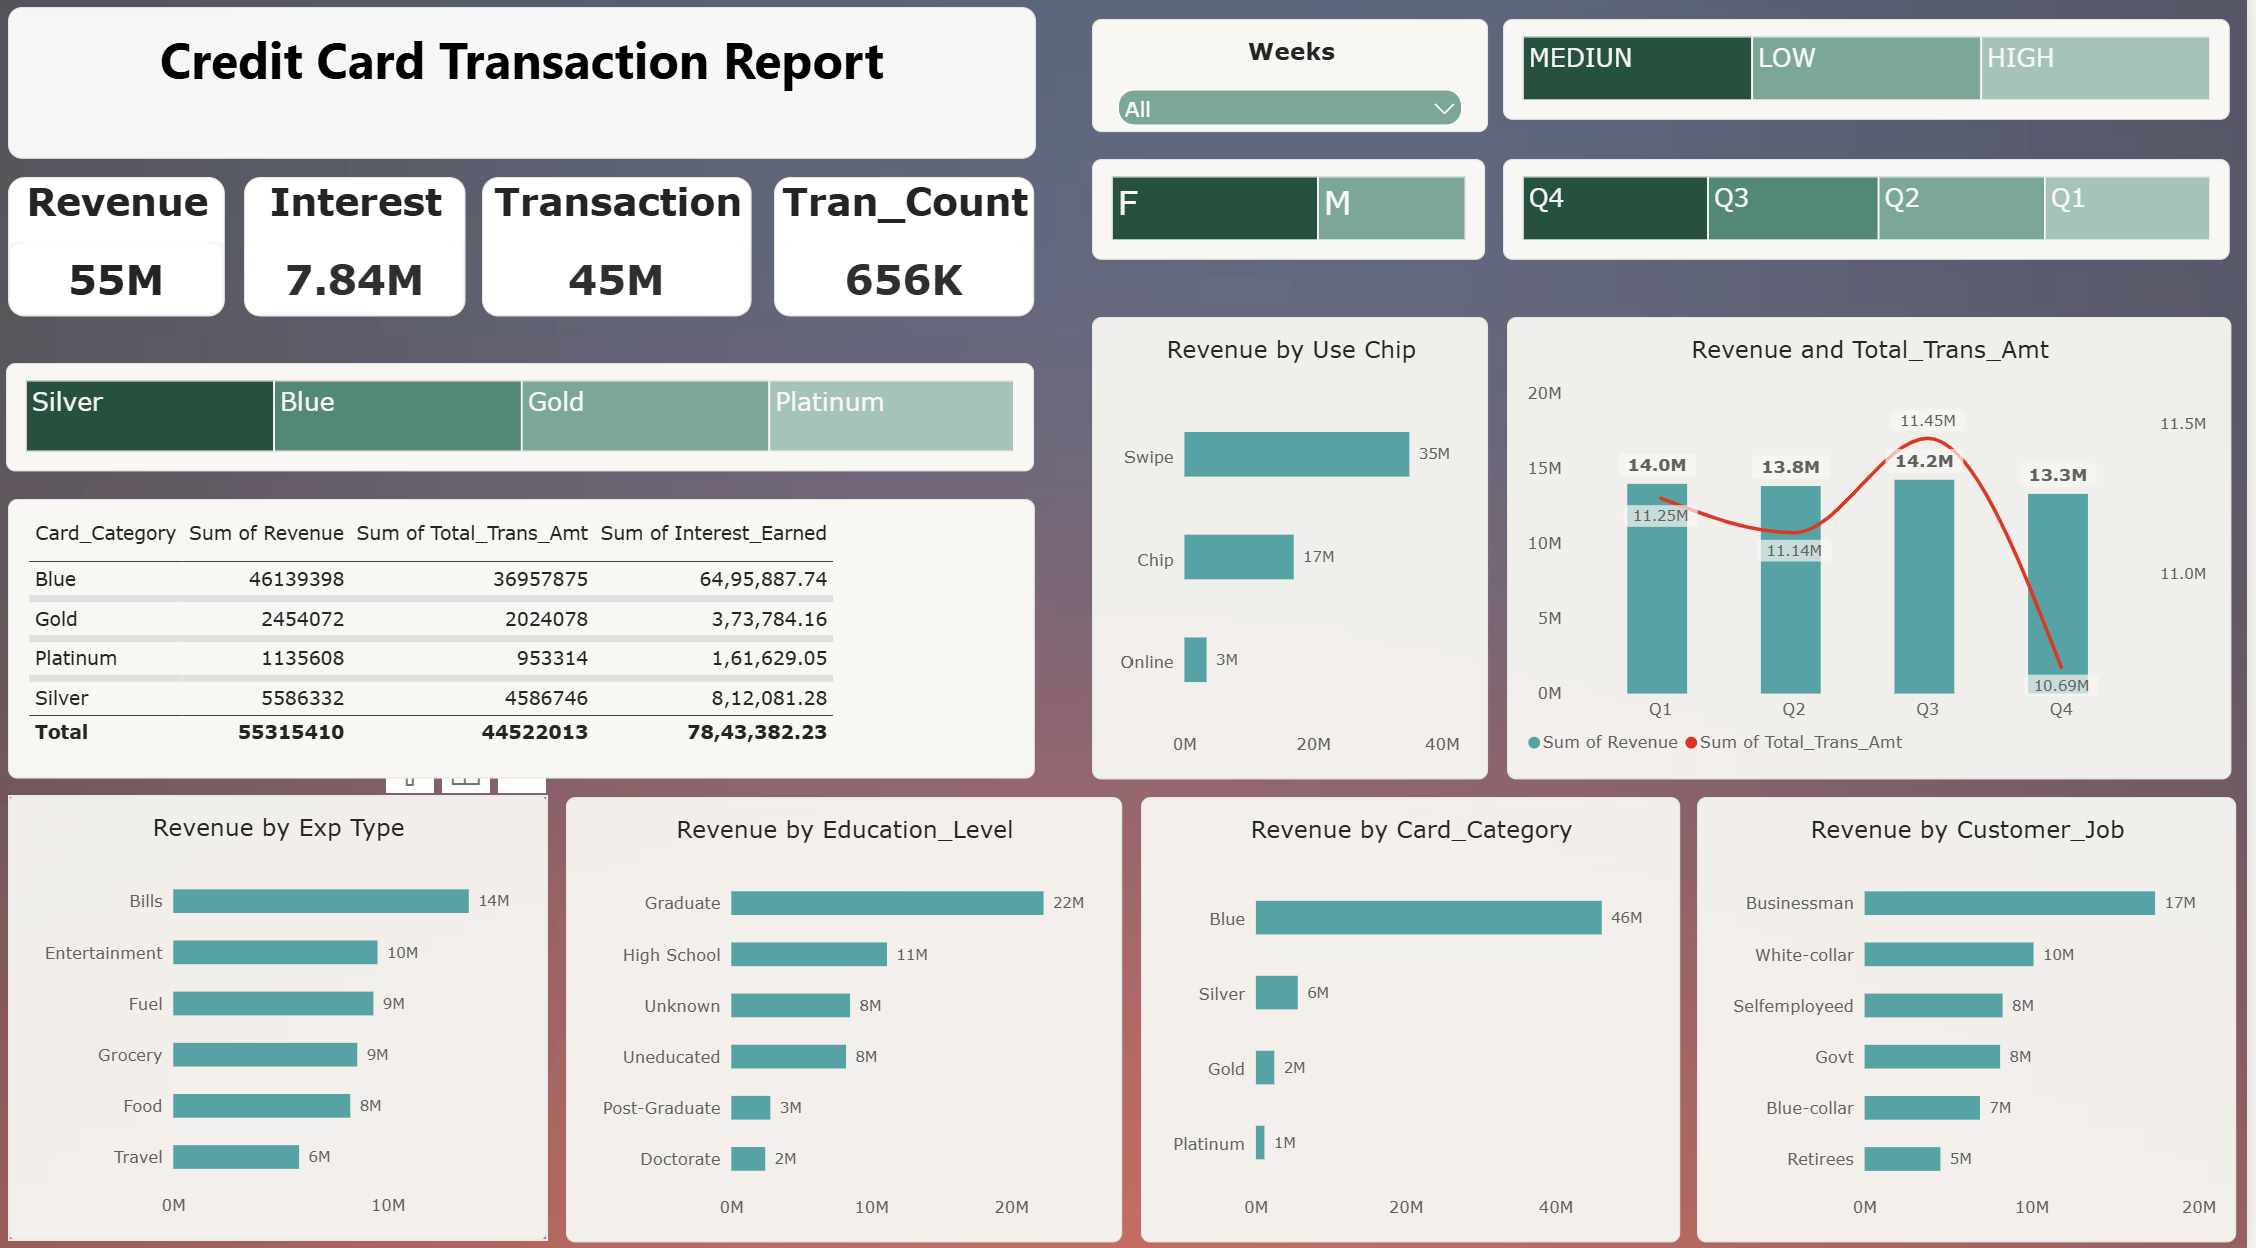

Layout of this report page (visuals, bound fields, positions):
{"tool":"powerbi","page":{"name":"CC_Transaction","canvas":[1920,1080],"ordinal":0},"visuals":[{"type":"textbox","box":[10.3,18.5,876.8,129.4],"z":0},{"type":"lineStackedColumnComboChart","title":"Revenue and Total_Trans_Amt","fields":{"Category":["credit_card.Qtr"],"Y":["Sum(credit_card.Revenue)","select"],"Y2":["Sum(credit_card.Total_Trans_Amt)"]},"box":[1287.5,283.4,618.1,394.3],"z":1000},{"type":"barChart","title":"Revenue by Exp Type","fields":{"Category":["credit_card.Exp Type"],"Y":["Sum(credit_card.Revenue)"]},"box":[10.4,691.2,460,380],"z":2000},{"type":"barChart","title":"Revenue by Education_Level","fields":{"Category":["customer (1).Education_Level"],"Y":["Sum(credit_card.Revenue)"]},"box":[486.7,692,474.4,379.9],"z":3000},{"type":"barChart","title":"Revenue by Customer_Job","fields":{"Category":["customer (1).Customer_Job"],"Y":["Sum(credit_card.Revenue)"]},"box":[1449.8,692,460,380],"z":4000},{"type":"barChart","title":"Revenue by Card_Category","fields":{"Category":["credit_card.Card_Category"],"Y":["Sum(credit_card.Revenue)"]},"box":[975.4,692,460,380],"z":5000},{"type":"barChart","title":"Revenue by Use Chip","fields":{"Category":["credit_card.Use Chip"],"Y":["Sum(credit_card.Revenue)"]},"box":[934.3,283.4,336.8,394.3],"z":6000},{"type":"tableEx","fields":{"Values":["credit_card.Card_Category","Sum(credit_card.Revenue)","Sum(credit_card.Total_Trans_Amt)","Sum(credit_card.Interest_Earned)"]},"box":[10.4,438.9,876.1,238.5],"z":7000},{"type":"cardVisual","title":"Revenue","fields":{"Data":["Sum(credit_card.Revenue)"]},"box":[10.2,163.8,184.8,119.1],"z":8000},{"type":"cardVisual","title":"Tran_Count","fields":{"Data":["Sum(credit_card.Total_Trans_Vol)"]},"box":[663.7,163.8,221.8,119.1],"z":9000},{"type":"cardVisual","title":"Transaction","fields":{"Data":["Sum(credit_card.Total_Trans_Amt)"]},"box":[414.6,163.8,230,119.1],"z":10000},{"type":"cardVisual","title":"Interest","fields":{"Data":["Sum(credit_card.Interest_Earned)"]},"box":[211.6,163.8,188.9,119.1],"z":11000},{"type":"slicer","title":"Weeks","fields":{"Values":["credit_card.Week_Start_Date"]},"box":[934.3,28.7,336.8,96.5],"z":12000},{"type":"treemap","fields":{"Group":["credit_card.Qtr"],"Values":["Avg(credit_card.Client_Num)"]},"box":[1285.5,147.9,620.1,86.2],"z":13000},{"type":"treemap","fields":{"Group":["customer (1).Gender"],"Values":["CountNonNull(customer (1).Client_Num)"]},"box":[934.3,147.9,334.7,86.2],"z":14000},{"type":"treemap","fields":{"Group":["credit_card.Card_Category"],"Values":["Avg(credit_card.Client_Num)"]},"box":[8.5,322.5,876.8,92.4],"z":15000},{"type":"treemap","fields":{"Group":["customer (1).IncomeGroup"],"Values":["Avg(credit_card.Client_Num)"]},"box":[1285.5,28.7,620.1,86.2],"z":16000}]}

Visuals, with their boxes in screenshot pixels (x1, y1, x2, y2), scaled from the page's 1920x1080 canvas onto the 2256x1248 screenshot:
textbox: [x1=12, y1=21, x2=1042, y2=171]
"Revenue and Total_Trans_Amt" lineStackedColumnComboChart: [x1=1513, y1=327, x2=2239, y2=783]
"Revenue by Exp Type" barChart: [x1=12, y1=799, x2=553, y2=1238]
"Revenue by Education_Level" barChart: [x1=572, y1=800, x2=1129, y2=1239]
"Revenue by Customer_Job" barChart: [x1=1704, y1=800, x2=2244, y2=1239]
"Revenue by Card_Category" barChart: [x1=1146, y1=800, x2=1687, y2=1239]
"Revenue by Use Chip" barChart: [x1=1098, y1=327, x2=1494, y2=783]
tableEx - credit_card.Card_Category x Sum(credit_card.Revenue): [x1=12, y1=507, x2=1042, y2=783]
"Revenue" cardVisual: [x1=12, y1=189, x2=229, y2=327]
"Tran_Count" cardVisual: [x1=780, y1=189, x2=1040, y2=327]
"Transaction" cardVisual: [x1=487, y1=189, x2=757, y2=327]
"Interest" cardVisual: [x1=249, y1=189, x2=471, y2=327]
"Weeks" slicer: [x1=1098, y1=33, x2=1494, y2=145]
treemap - credit_card.Qtr x Avg(credit_card.Client_Num): [x1=1510, y1=171, x2=2239, y2=271]
treemap - customer (1).Gender x CountNonNull(customer (1).Client_Num): [x1=1098, y1=171, x2=1491, y2=271]
treemap - credit_card.Card_Category x Avg(credit_card.Client_Num): [x1=10, y1=373, x2=1040, y2=479]
treemap - customer (1).IncomeGroup x Avg(credit_card.Client_Num): [x1=1510, y1=33, x2=2239, y2=133]
